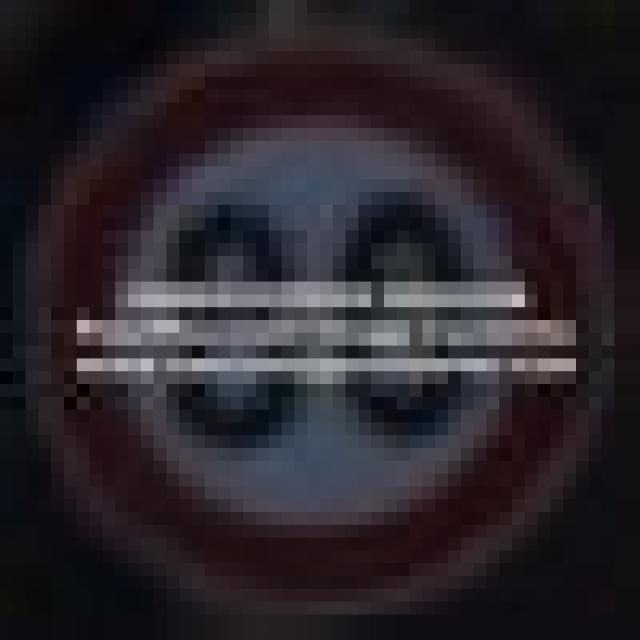SPEED_LIMIT_80: (26, 26, 576, 576)
